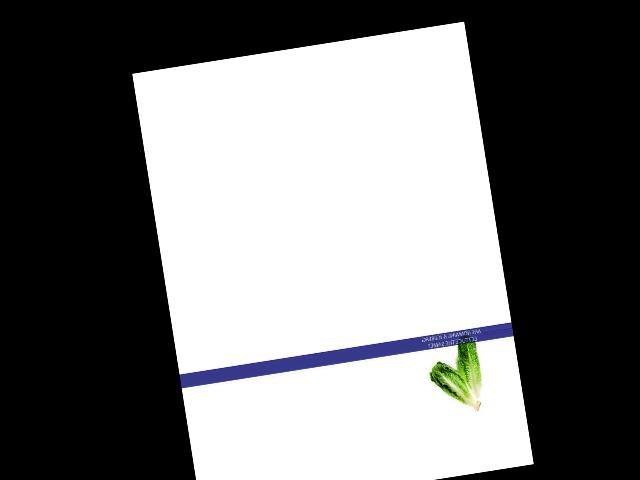lettuce: (428, 351, 484, 416)
